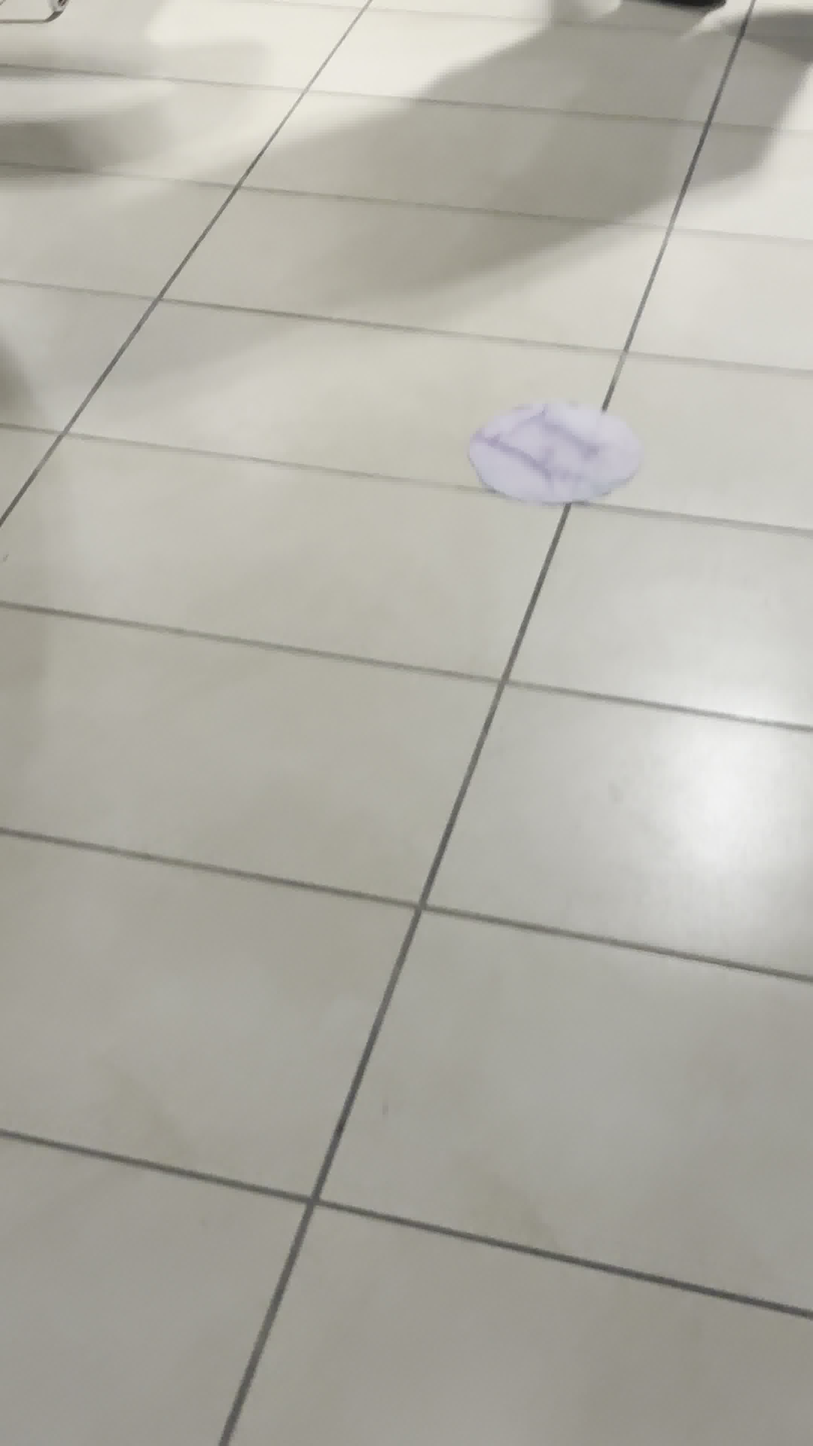Target: (467, 398, 642, 505)
